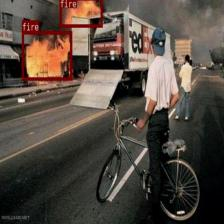fire: (22, 31, 72, 80), (59, 0, 102, 26)
